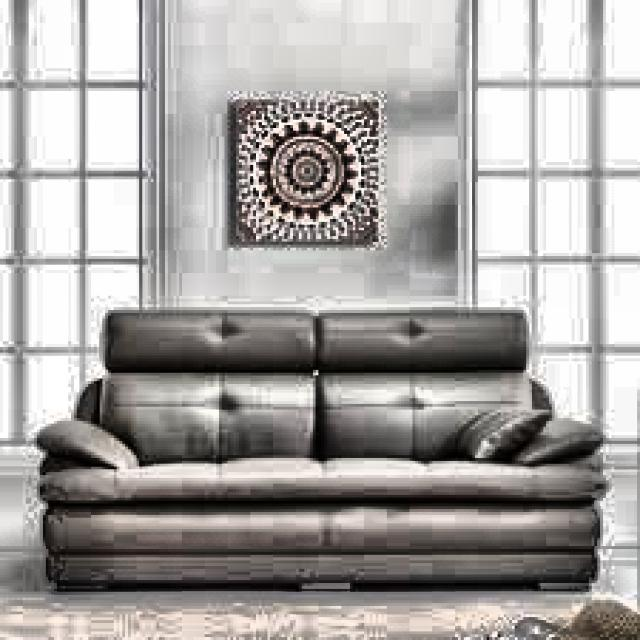sofa: (34, 304, 606, 598)
